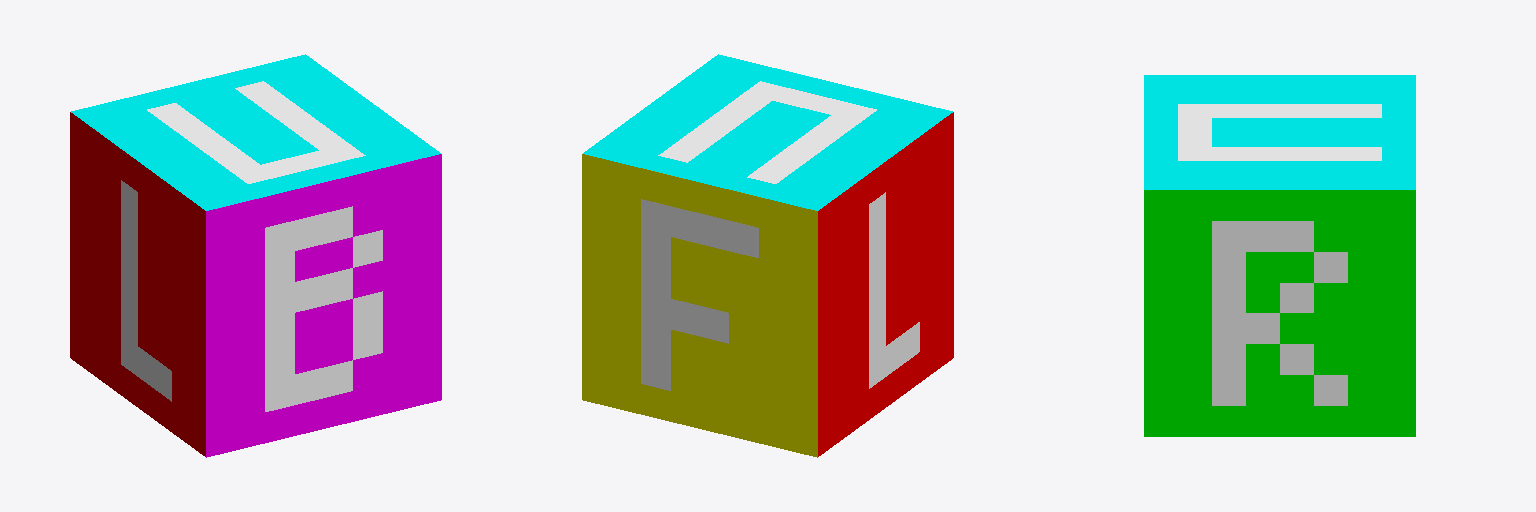
3 renders of one model, left to right at view 1: azimuth 30°, elevation 25°; view 2: azimuth 150°, elevation 25°; view 3: azimuth 270°, elevation 25°, orthographic.
Parts seen in each view (by area): view 1: Cube; view 2: Cube; view 3: Cube.
Boxes of the visible parts, x1,y1,x2,y2 form: Cube: [70, 54, 441, 457]; Cube: [582, 54, 953, 457]; Cube: [1144, 75, 1415, 436].
Size of the model in its own units: 2 by 2 by 2.
1 materials, 1 textured.